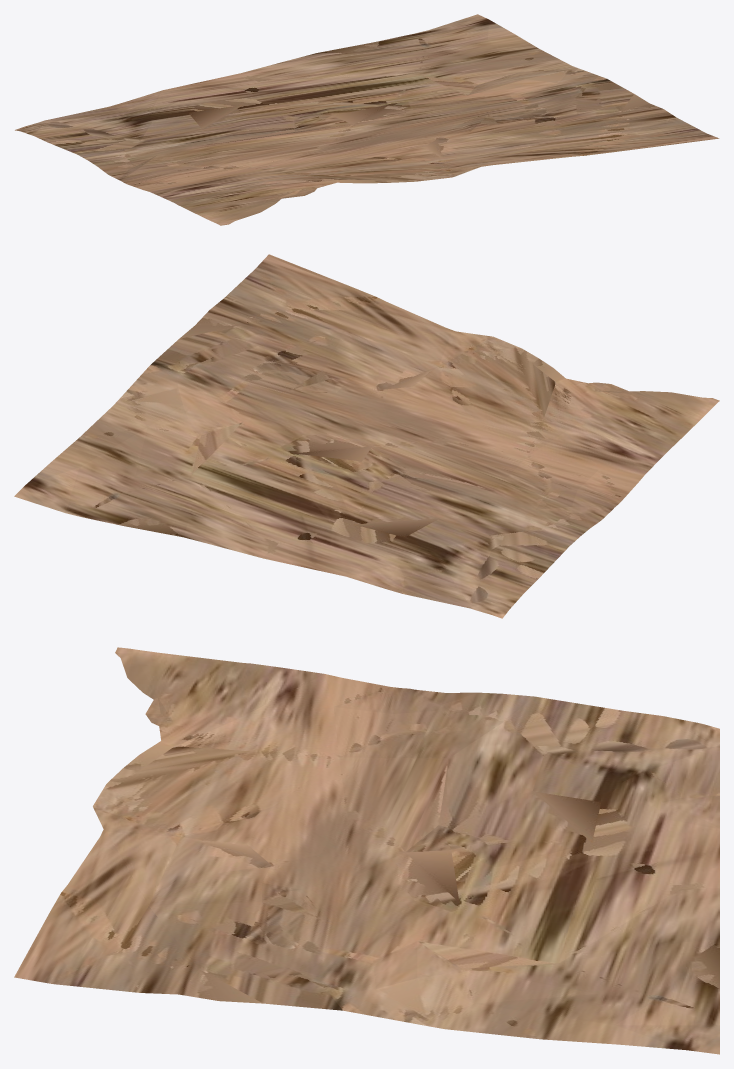
3 views of the same model, one above another, from view 1: azimuth 30°, elevation 25°; view 2: azimuth 150°, elevation 25°; view 3: azimuth 270°, elevation 25° (orthographic). The views are drawn at different scales.
Size of the model in its own units: 2.09 by 0.2446 by 1.89.
2 materials, 2 textured.
